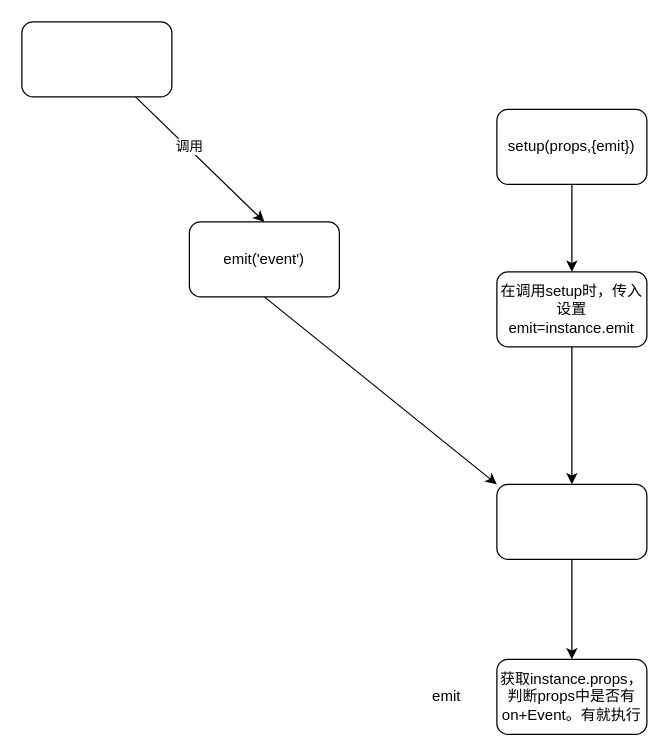
This 669x756 diagram has some shape labels left out. The shapes that lost their labels are listed below. From the top down, each one's centre as x and y in pixels, then its label:
point (96, 59): 子组件
point (571, 521): instance.emit
